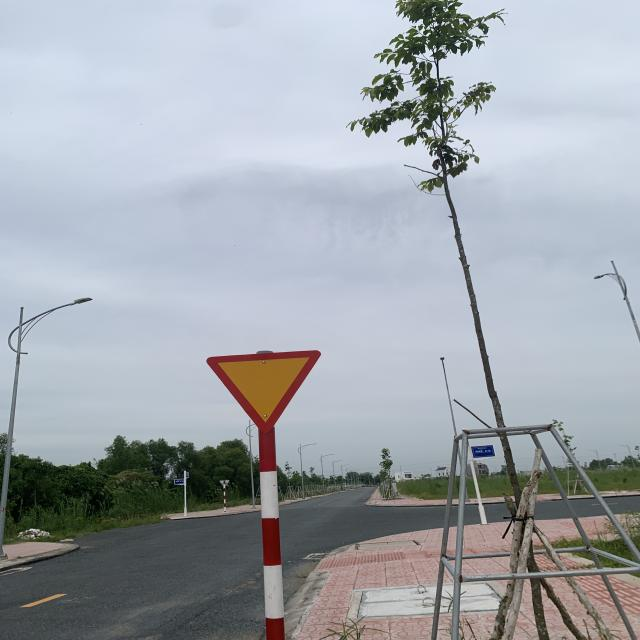Gioi_Han_Toc_Do_25: (205, 349, 323, 434)
